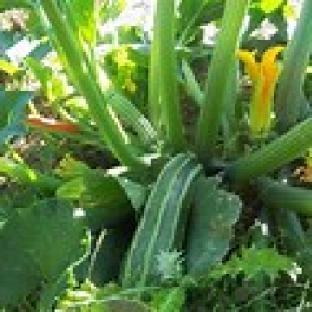Zucchini: (123, 154, 202, 286)
